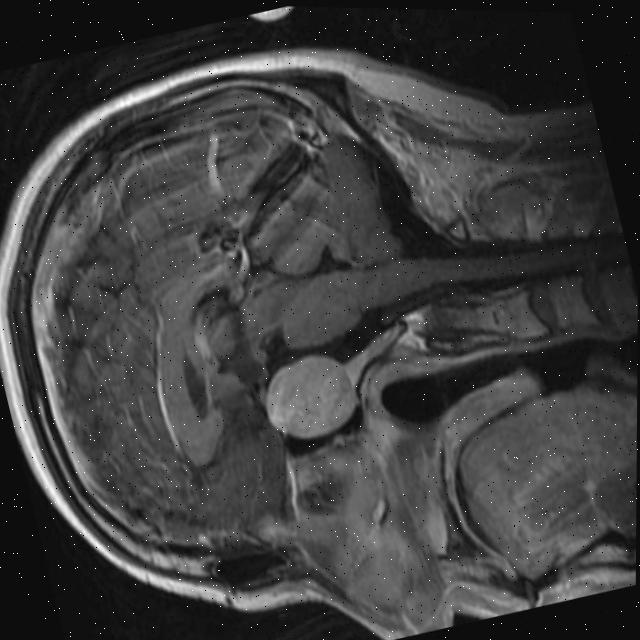Pituitary: (255, 345, 362, 447)
